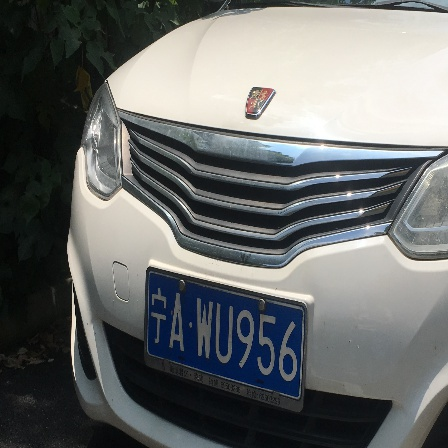plate: (142, 255, 310, 408)
